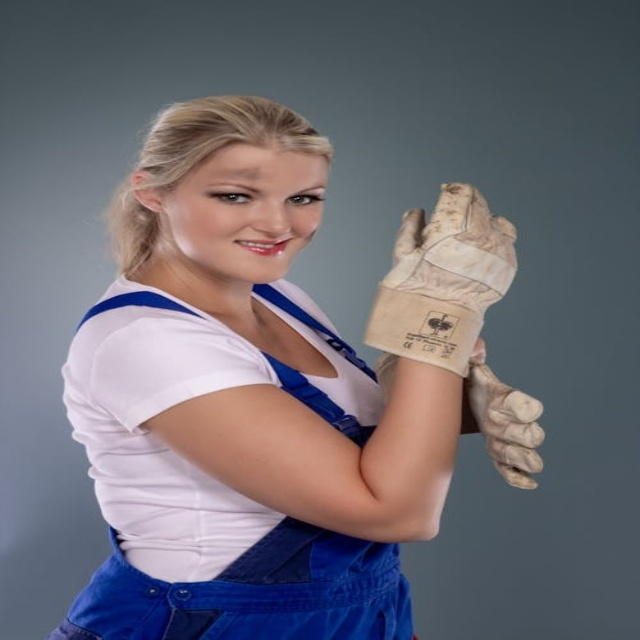Guantes: (363, 183, 520, 379), (461, 349, 545, 488)
Sin_gafas: (187, 181, 332, 212)
Sin_mascara: (220, 235, 301, 276)
